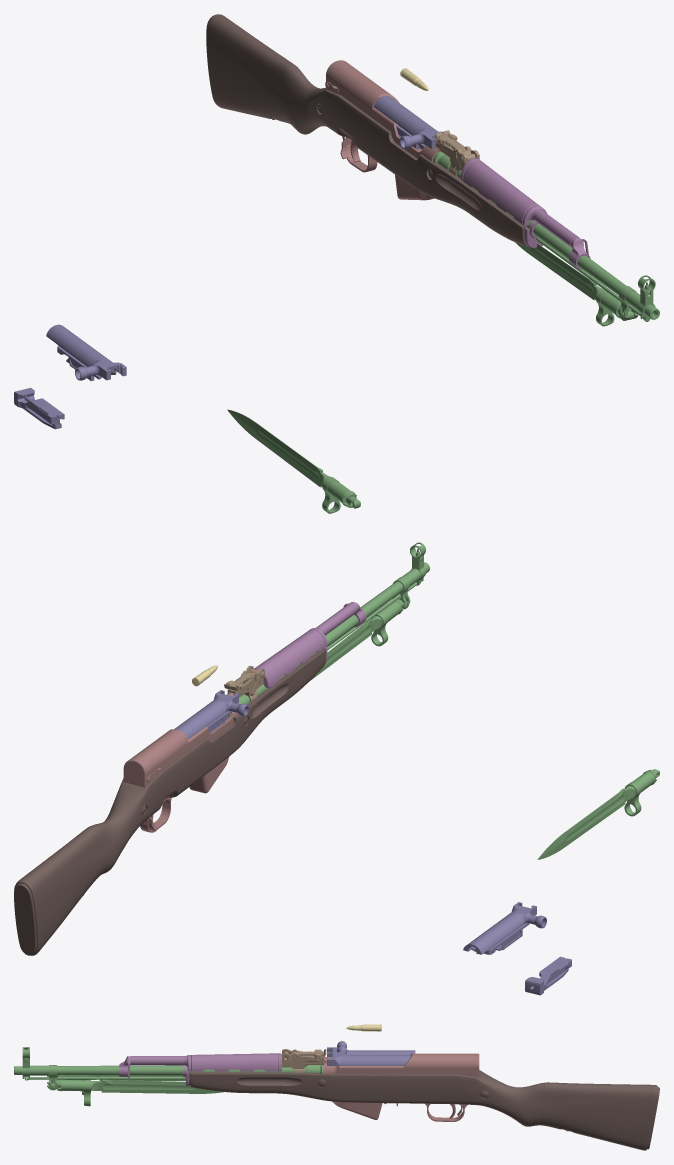
Rendered from SKS-SPP (1).fbx.
3 views of the same model, one above another, from view 1: azimuth 30°, elevation 25°; view 2: azimuth 150°, elevation 25°; view 3: azimuth 270°, elevation 25° (orthographic). The views are drawn at different scales.
Visible parts, largest first — view 1: Stock_low, Blade_low (×2), Receiver_low, BoltCarrier_low1, TopWood_low, Barrel_low, BoltCarrier_low, GasTube_low, Bolt_low1, FrontSight_low, BayonetHold_low; view 2: Stock_low, Receiver_low, Blade_low (×2), BoltCarrier_low1, TopWood_low, BoltCarrier_low, Barrel_low, GasTube_low, Bolt_low1, FrontSight_low; view 3: Stock_low, Receiver_low, Barrel_low, Blade_low (×2), TopWood_low, BoltCarrier_low, GasTube_low, FrontSight_low, RearSightBase_low, MagazineBottom_low, BayonetHold_low, CleaningRod_low (+3 smaller).
Part boxes in pixels (x1,y1,x2,y2): Stock_low: (206, 14, 529, 246); Blade_low (×2): (227, 242, 602, 487); Receiver_low: (325, 60, 440, 162); BoltCarrier_low1: (46, 324, 126, 381); TopWood_low: (463, 160, 539, 224); Barrel_low: (433, 151, 659, 319); BoltCarrier_low: (374, 95, 442, 149); GasTube_low: (460, 158, 590, 269); Bolt_low1: (14, 387, 64, 429); FrontSight_low: (617, 275, 655, 320); BayonetHold_low: (322, 476, 356, 513); Stock_low: (14, 647, 325, 955); Receiver_low: (123, 692, 239, 787); Blade_low (×2): (309, 616, 635, 859); BoltCarrier_low1: (463, 902, 546, 954); TopWood_low: (255, 629, 325, 686); BoltCarrier_low: (174, 690, 248, 739); Barrel_low: (228, 562, 429, 718); GasTube_low: (254, 602, 366, 687); Bolt_low1: (525, 956, 571, 995); FrontSight_low: (393, 542, 425, 608); Stock_low: (187, 1070, 659, 1150); Receiver_low: (324, 1053, 479, 1077); Barrel_low: (14, 1065, 323, 1075); Blade_low (×2): (89, 1075, 223, 1093); TopWood_low: (191, 1053, 277, 1071); BoltCarrier_low: (327, 1046, 410, 1065); GasTube_low: (119, 1053, 281, 1077); FrontSight_low: (22, 1047, 60, 1090); RearSightBase_low: (282, 1049, 323, 1072); MagazineBottom_low: (332, 1101, 382, 1119); BayonetHold_low: (57, 1079, 90, 1106); CleaningRod_low: (25, 1076, 185, 1080).
Size of the model in its own units: 537 by 318 by 1026.
